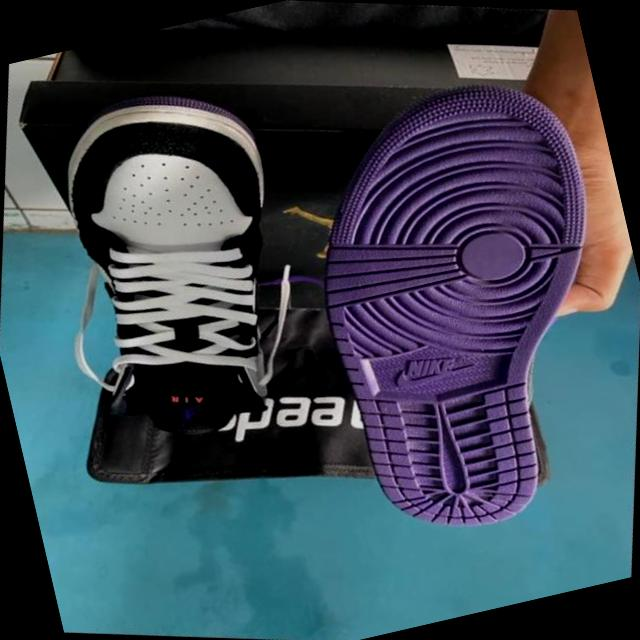nike_fake_jordan: (0, 41, 359, 482)
